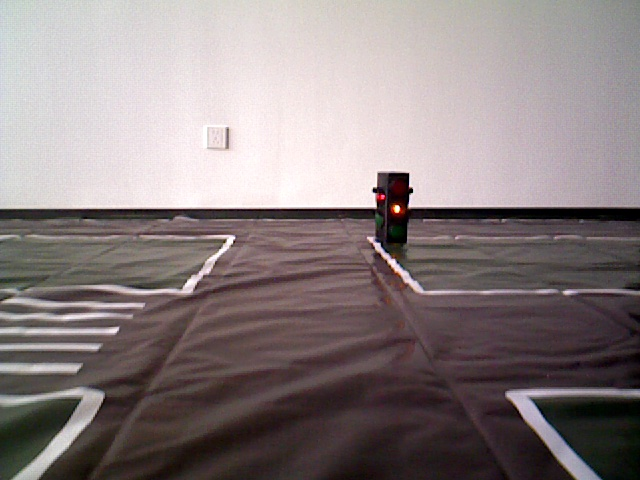yellow: (377, 173, 409, 240)
